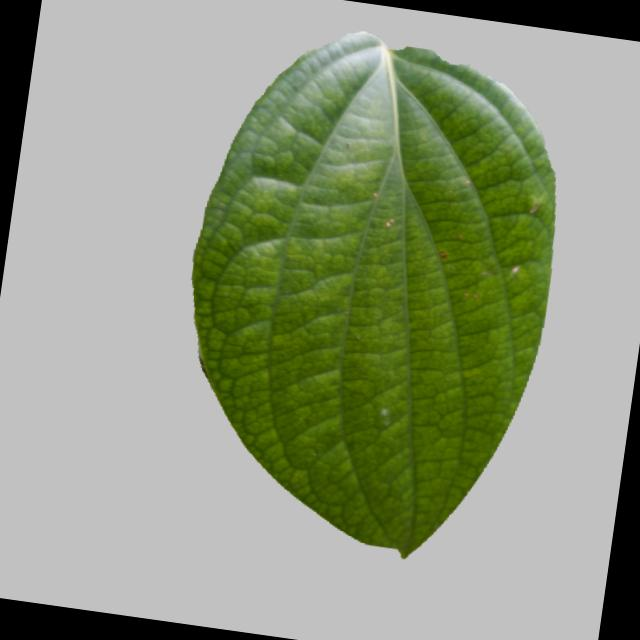healthy: (158, 6, 591, 579)
